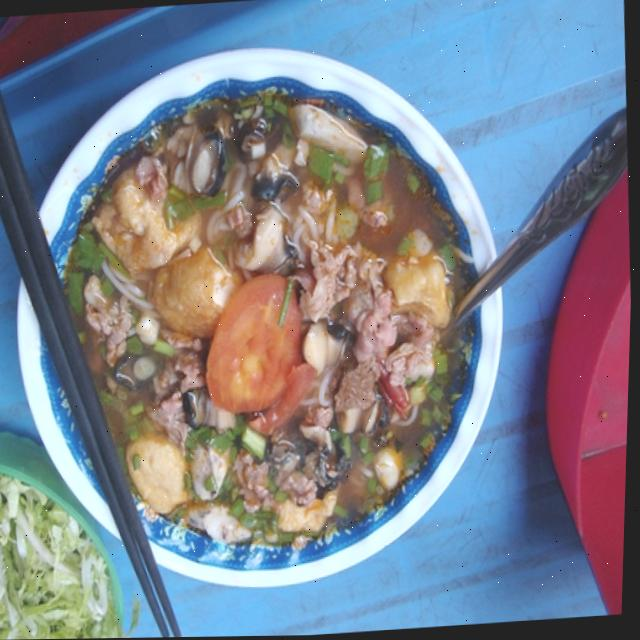面条主食: (0, 22, 540, 624)
